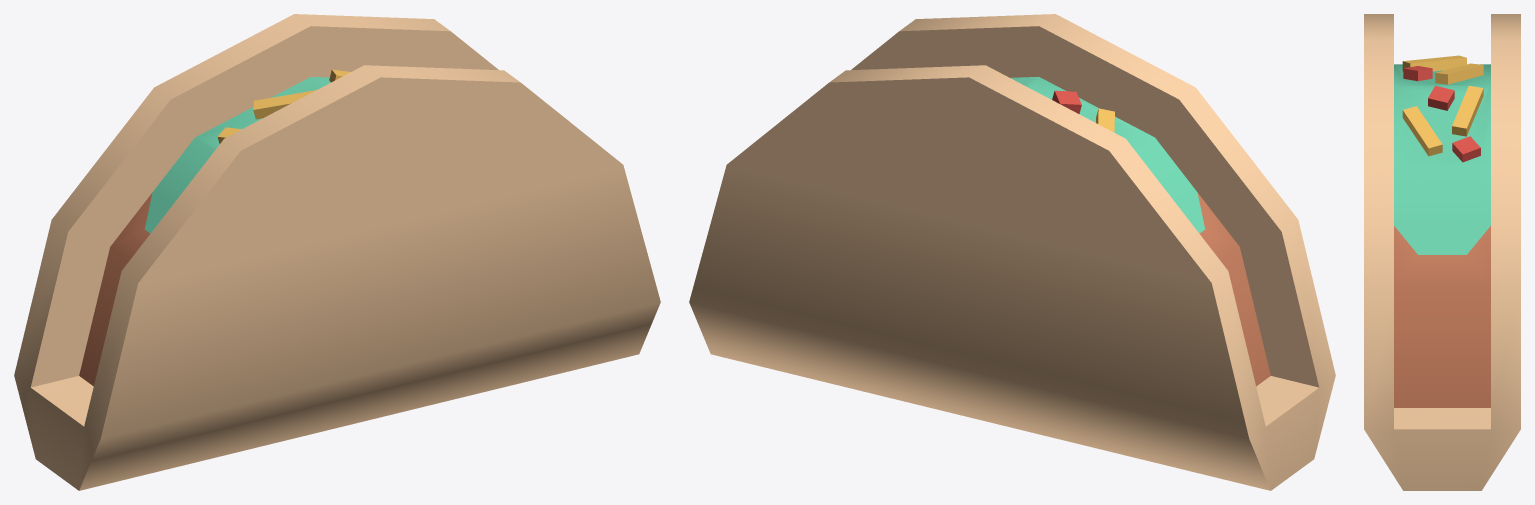
Rendered from taco.glb.
3 renders of one model, left to right at view 1: azimuth 30°, elevation 25°; view 2: azimuth 150°, elevation 25°; view 3: azimuth 270°, elevation 25°, orthographic. The views are drawn at different scales.
Parts seen in each view (by area): view 1: taco; view 2: taco; view 3: taco.
Part boxes in pixels (x1,y1,x2,y2): taco: (14, 14, 660, 490); taco: (689, 14, 1335, 490); taco: (1364, 14, 1520, 490).
Bounding box in the file's own units: 0.4256 × 0.2622 × 0.114.
1 material, 1 textured.
